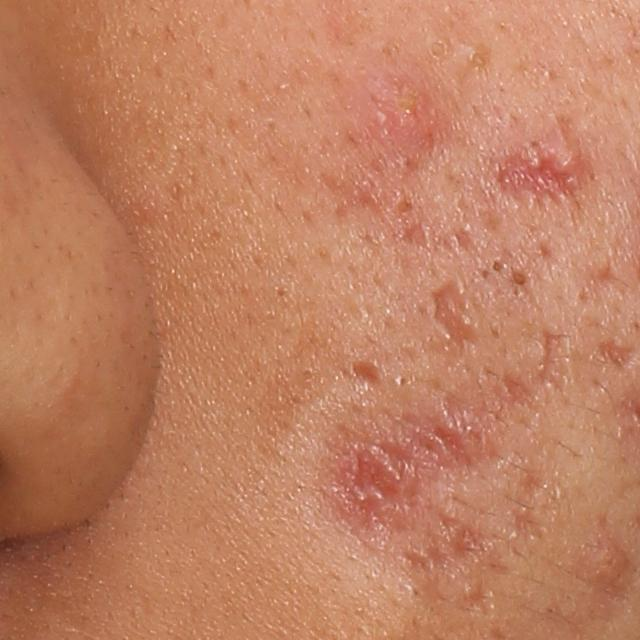atrophic_scar: (324, 329, 573, 535), (309, 76, 504, 260), (478, 113, 611, 243), (415, 275, 489, 355), (401, 513, 483, 569), (452, 576, 497, 616), (514, 503, 550, 540), (346, 360, 388, 391)
comedo: (424, 38, 452, 61), (462, 51, 493, 71), (490, 259, 507, 273)
papule: (580, 538, 637, 583)
